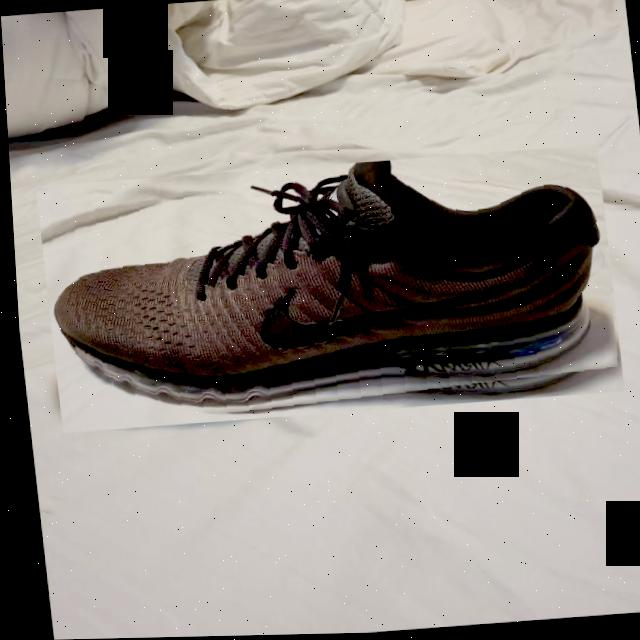shoe: (32, 148, 621, 434)
